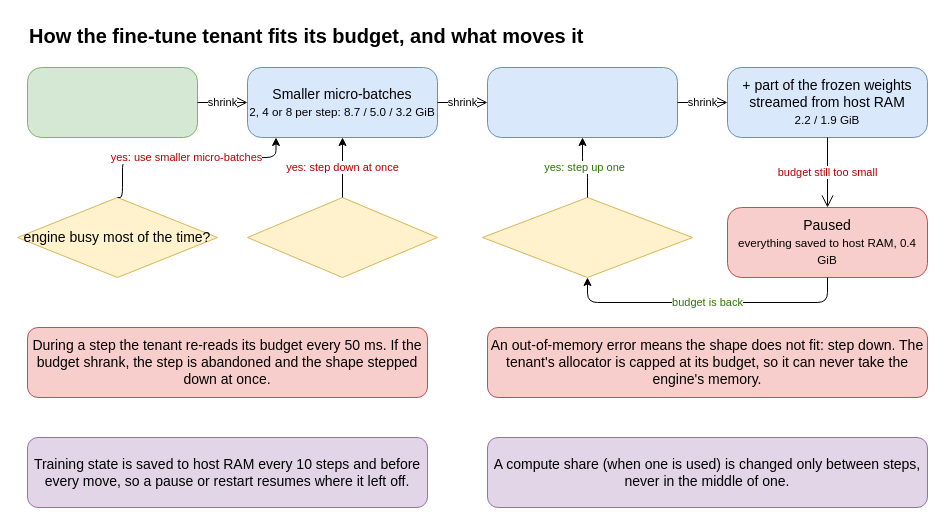
The diagram is 945 pixels wide and 525 high, and some of its shapes have lost their labels. Each missing label, with the centre of its shape:
"+ activations kept in host RAM 2.5 GiB" goes at pixel 582 102.
"budget below what the current shape needs?" goes at pixel 342 237.
"budget fits a bigger shape, for 3 s?" goes at pixel 587 237.
"Full batch 15.9 GiB, fastest" goes at pixel 112 102.
